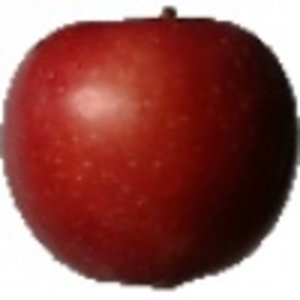maçã braeburn: (1, 12, 299, 288)
